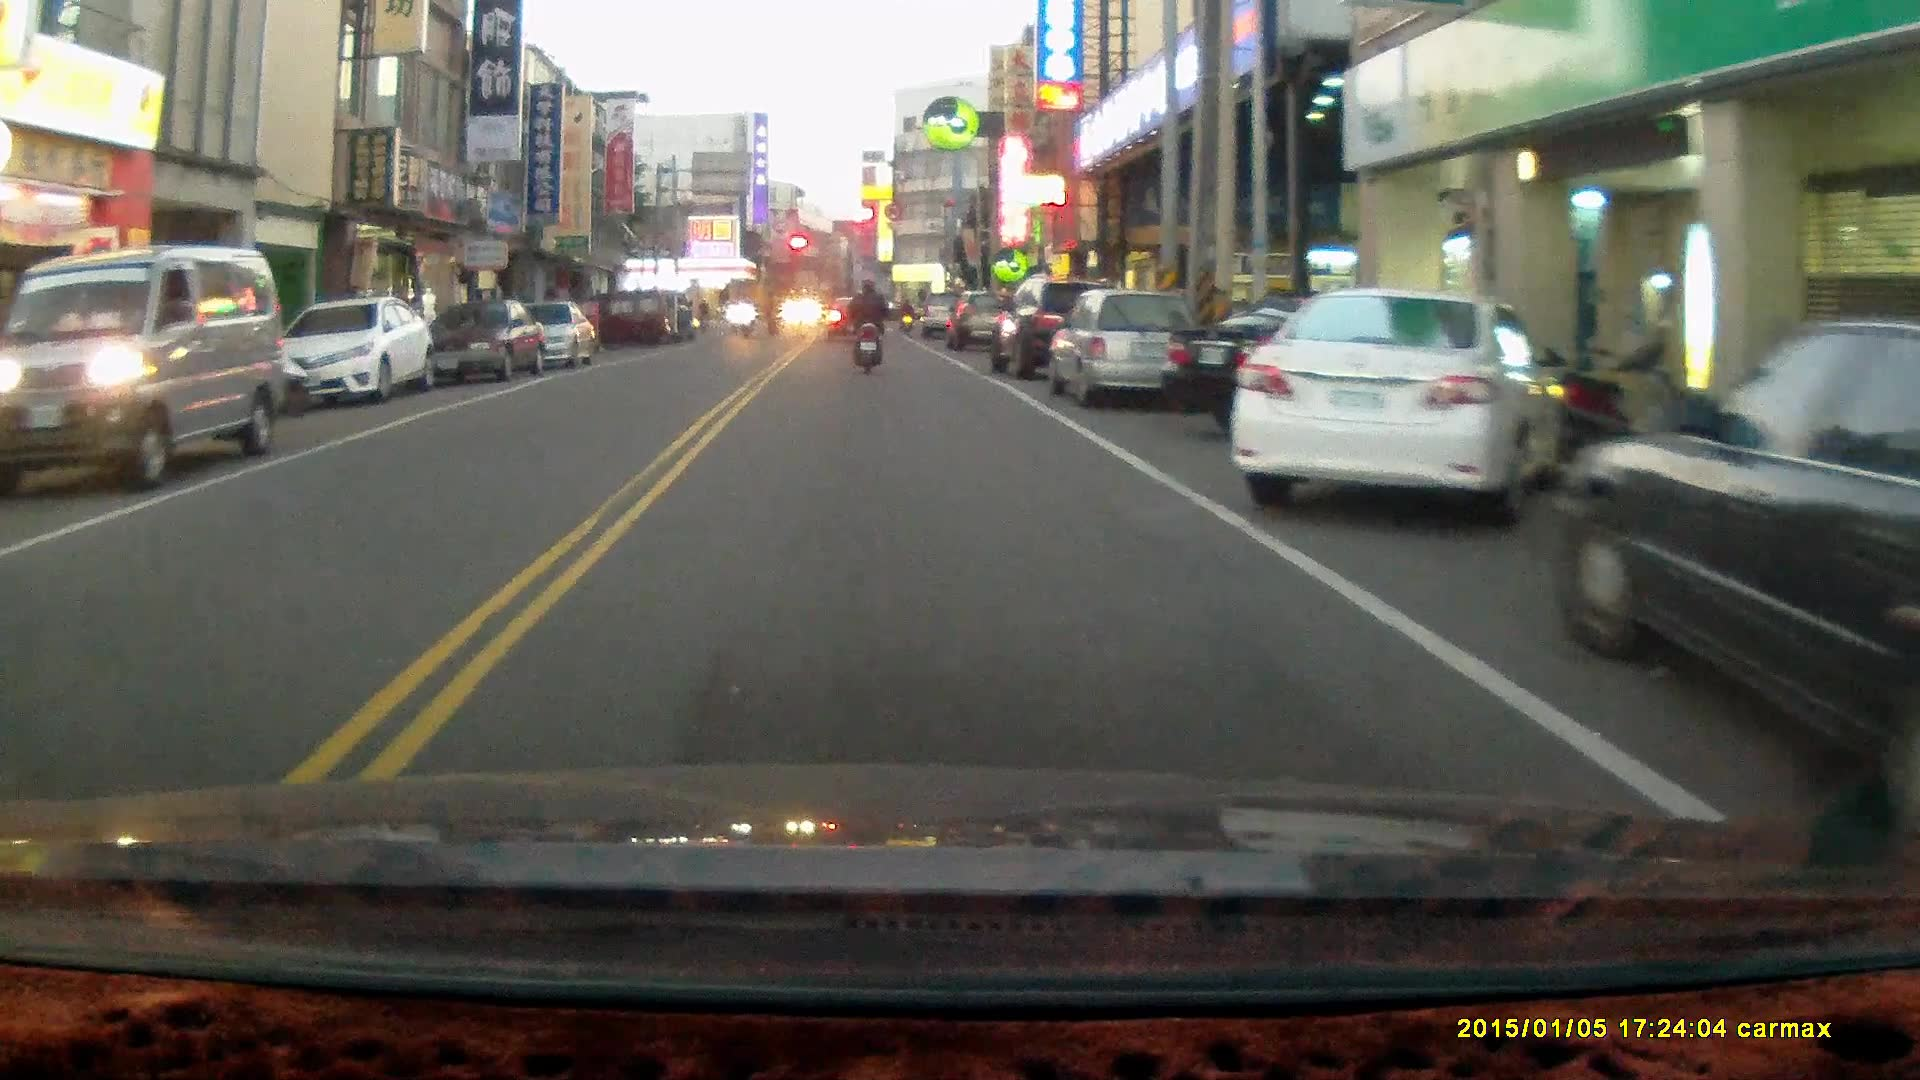rider: (256, 331, 309, 421), (846, 275, 890, 376), (733, 296, 756, 339)
vehicle: (1539, 315, 1920, 800), (1233, 289, 1562, 526), (4, 242, 297, 486), (1158, 296, 1507, 441), (1048, 288, 1209, 404), (276, 294, 434, 407), (985, 286, 1126, 377), (420, 297, 549, 384), (493, 300, 593, 374)
